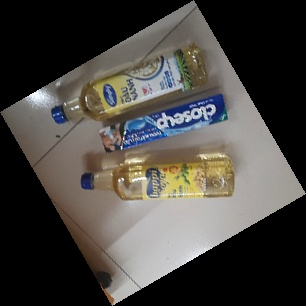CloseUp Tuyet: (97, 94, 229, 153)
Happy Soya: (79, 152, 236, 199)
Simply: (49, 42, 210, 125)
